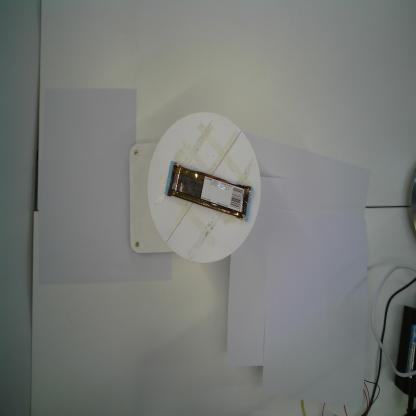Chocolate: (164, 161, 254, 223)
